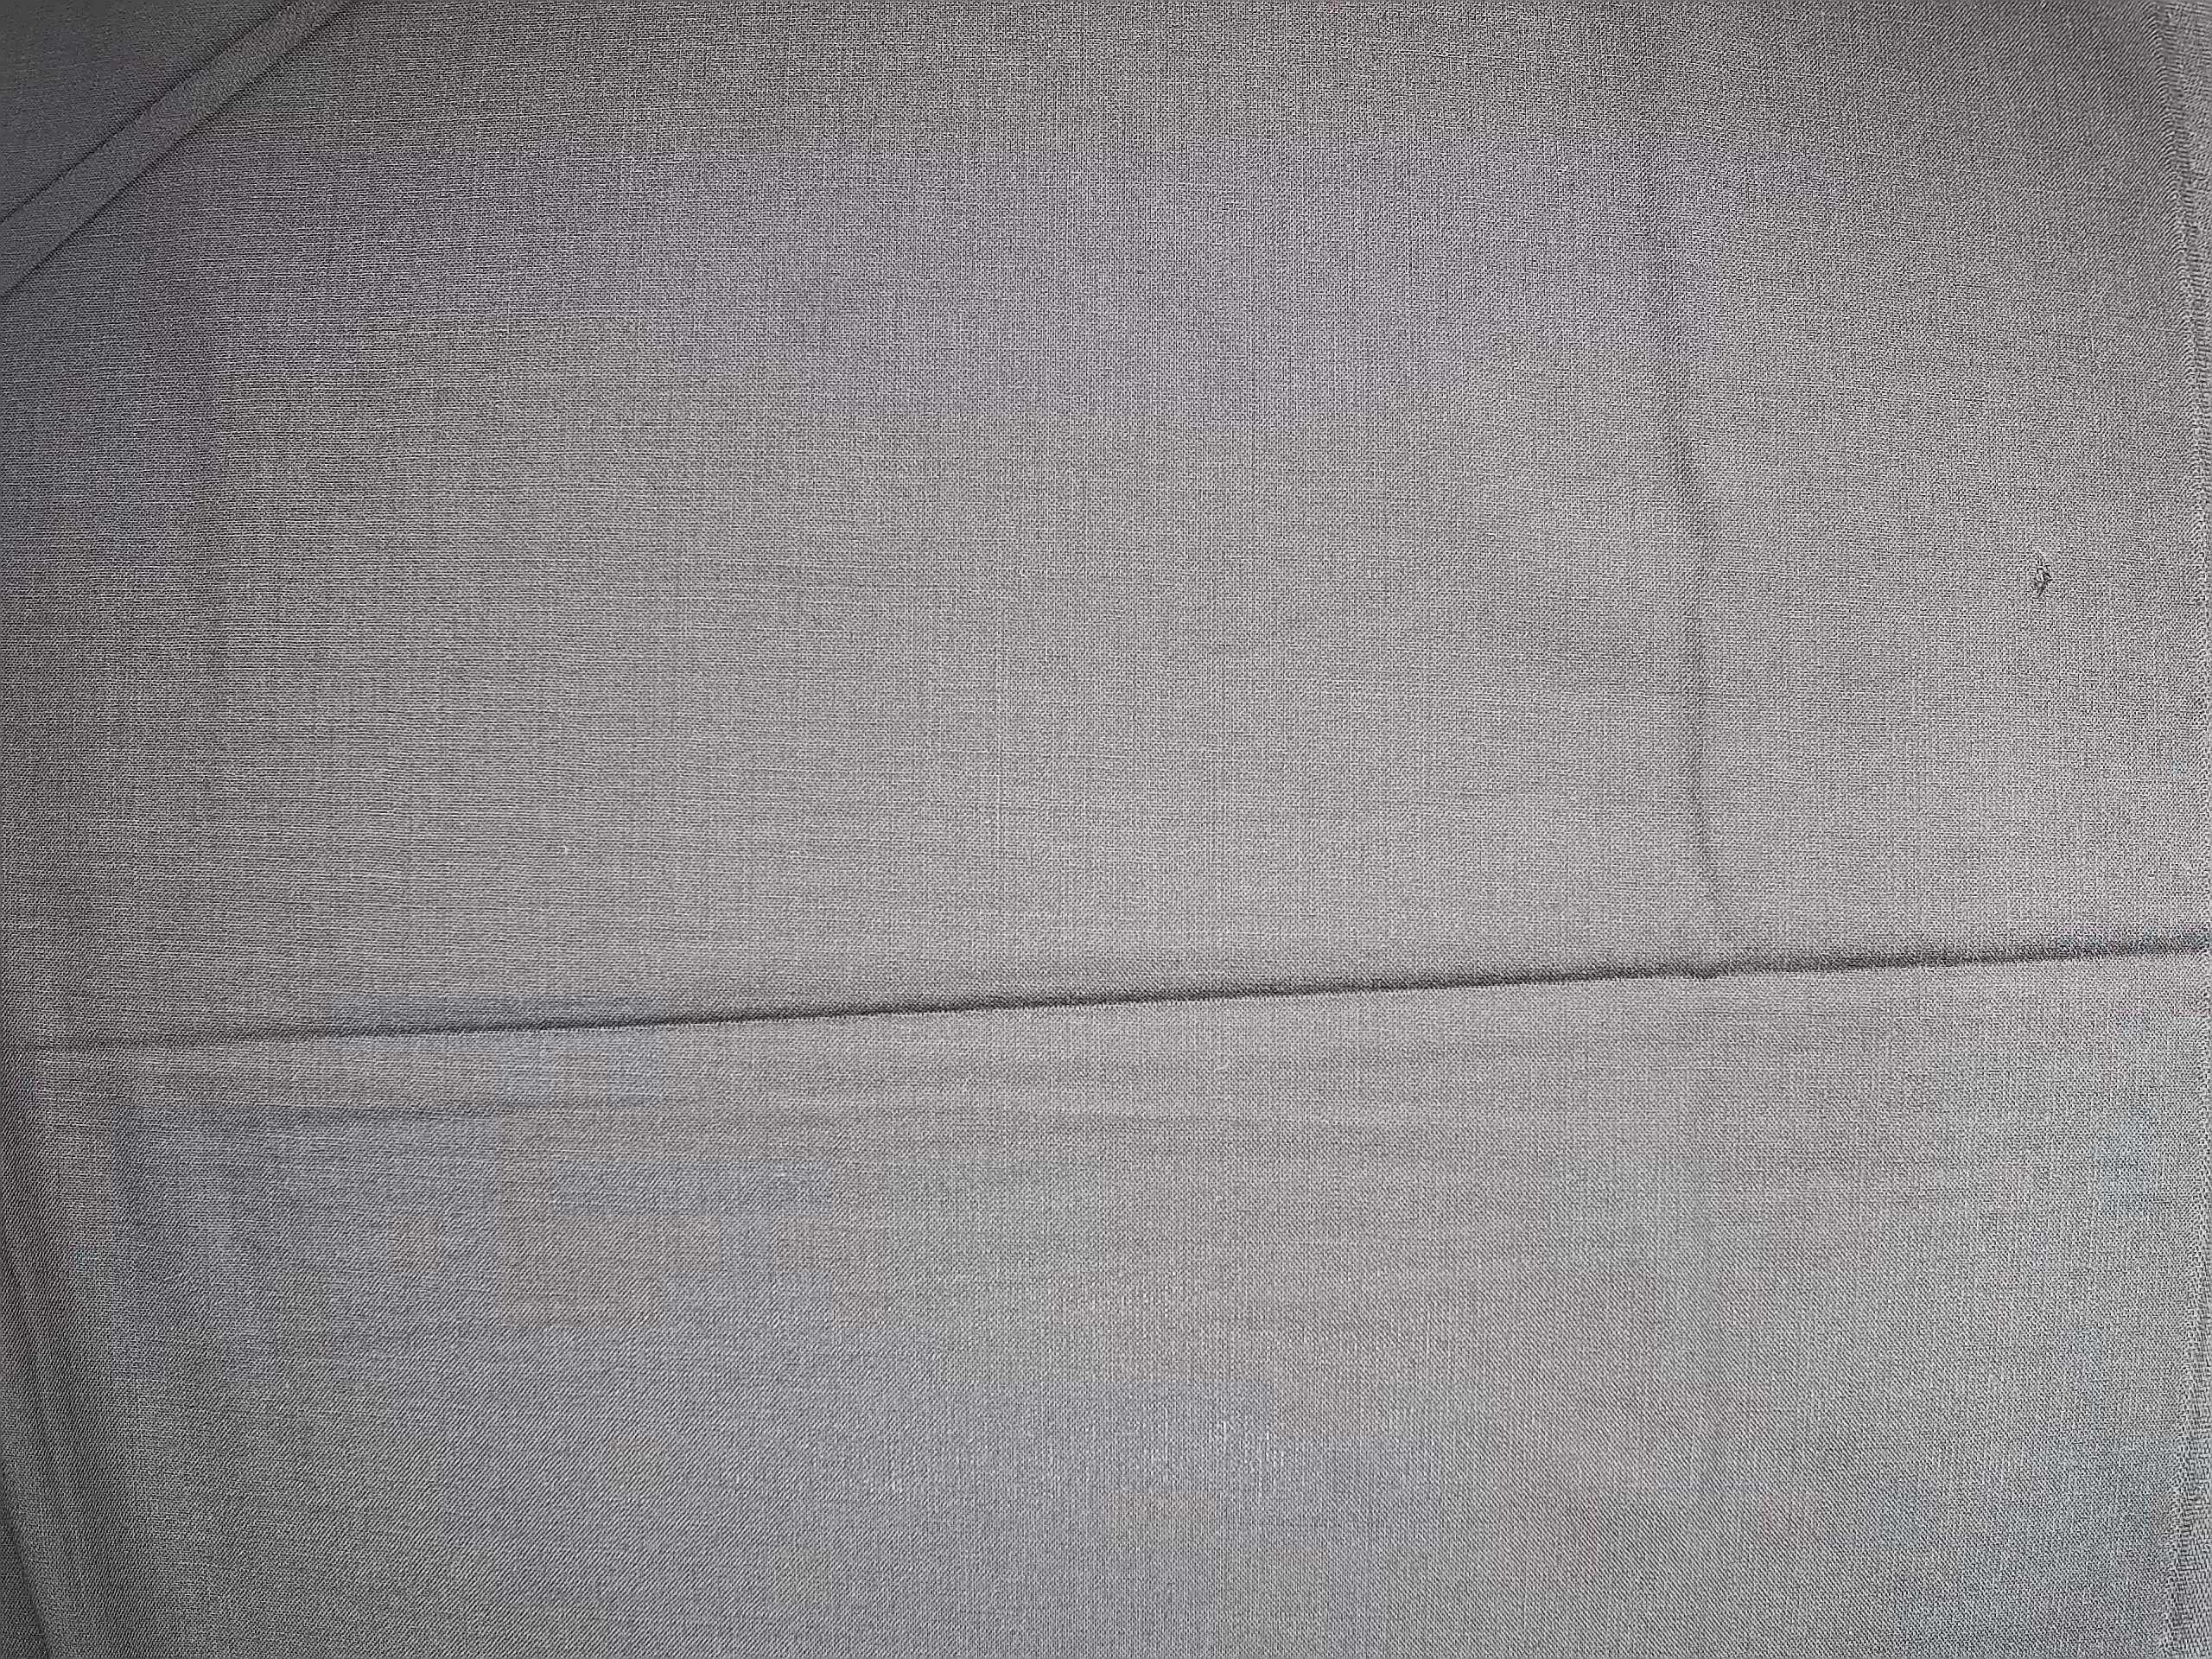rubbing-hole: (2017, 542, 2067, 610)
